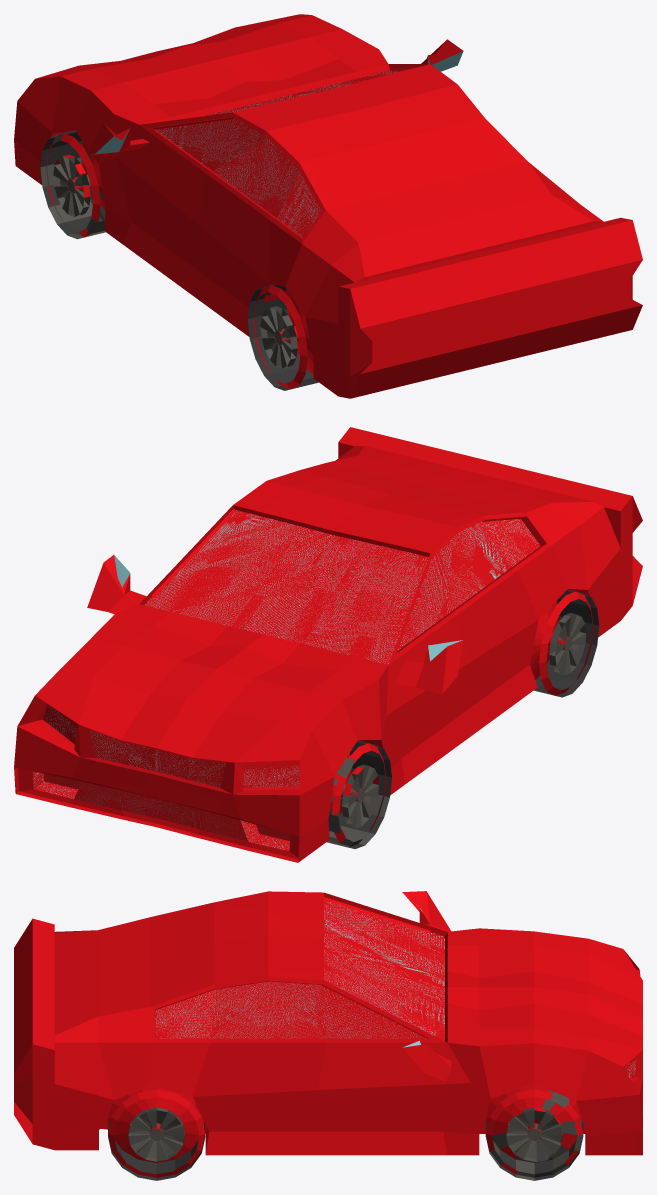
File: sedan.fbx
3 renders of one model, top to bottom at view 1: azimuth 30°, elevation 25°; view 2: azimuth 150°, elevation 25°; view 3: azimuth 270°, elevation 25°, orthographic. The views are drawn at different scales.
Parts seen in each view (by area): view 1: Cube.001; view 2: Cube.001; view 3: Cube.001.
Boxes of the visible parts, x1,y1,x2,y2 form: Cube.001: (14, 14, 642, 398); Cube.001: (14, 427, 642, 862); Cube.001: (14, 891, 642, 1180).
Bounding box in the file's own units: 264 × 138 × 435.
